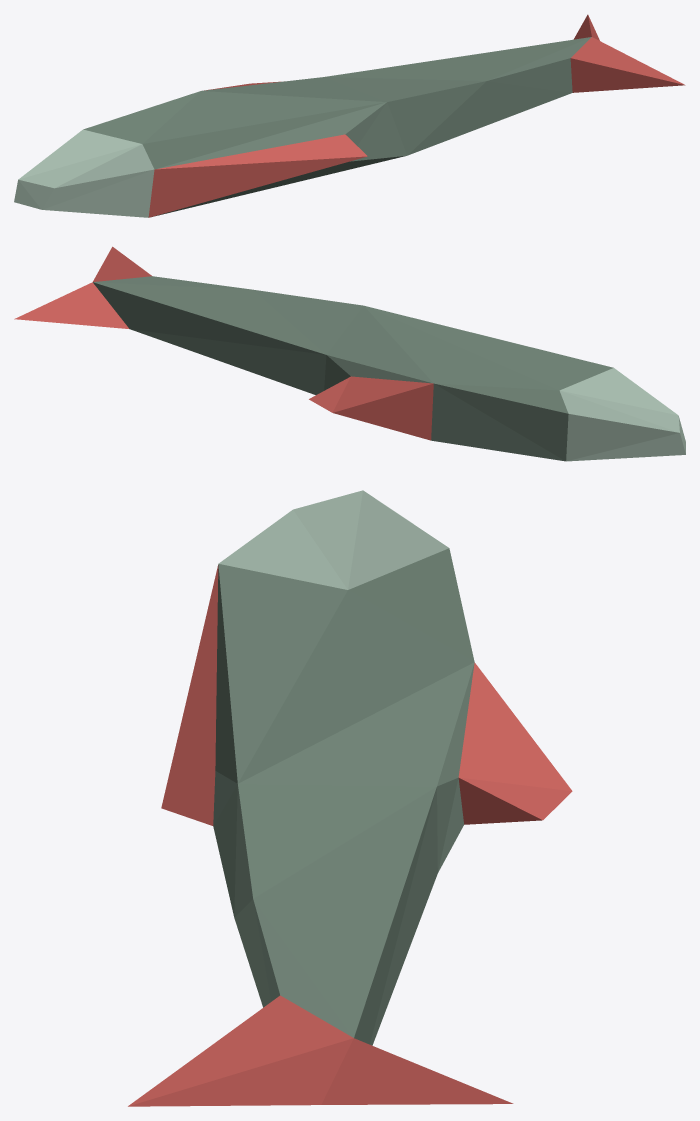
The model's file is Fish_04.glb.
3 renders of one model, top to bottom at view 1: azimuth 30°, elevation 25°; view 2: azimuth 150°, elevation 25°; view 3: azimuth 270°, elevation 25°, orthographic. The views are drawn at different scales.
Parts seen in each view (by area): view 1: Fish_04; view 2: Fish_04; view 3: Fish_04.
Part boxes in pixels (x1,y1,x2,y2): Fish_04: (14,14,685,217); Fish_04: (14,246,685,461); Fish_04: (128,490,572,1106).
Size of what is drawn, in the model's own units: 0.663 by 0.0595 by 0.2083.
Materials: 1 (1 with a texture image).
